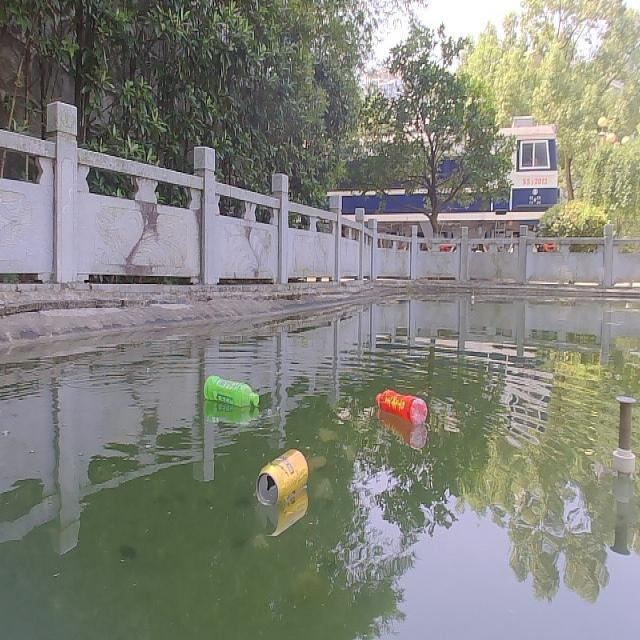bottle: (366, 381, 429, 424), (196, 367, 259, 409)
can: (252, 448, 310, 509)
